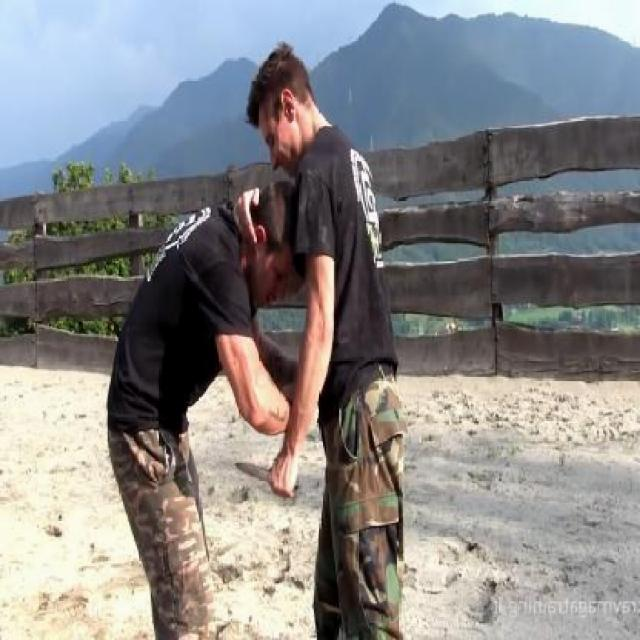knife: (229, 449, 302, 503)
